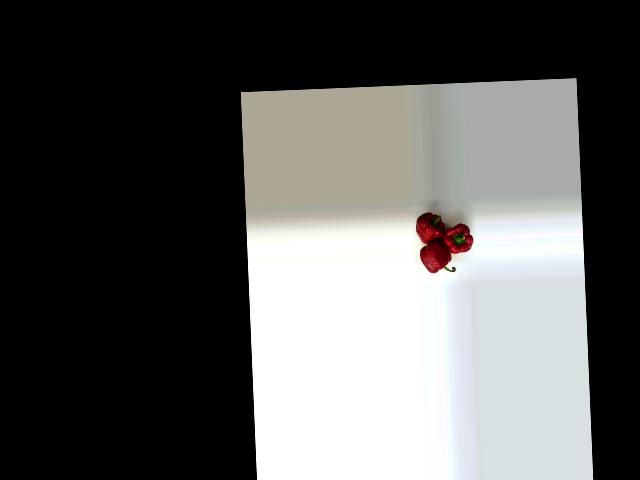bell_pepper: (417, 242, 457, 281)
